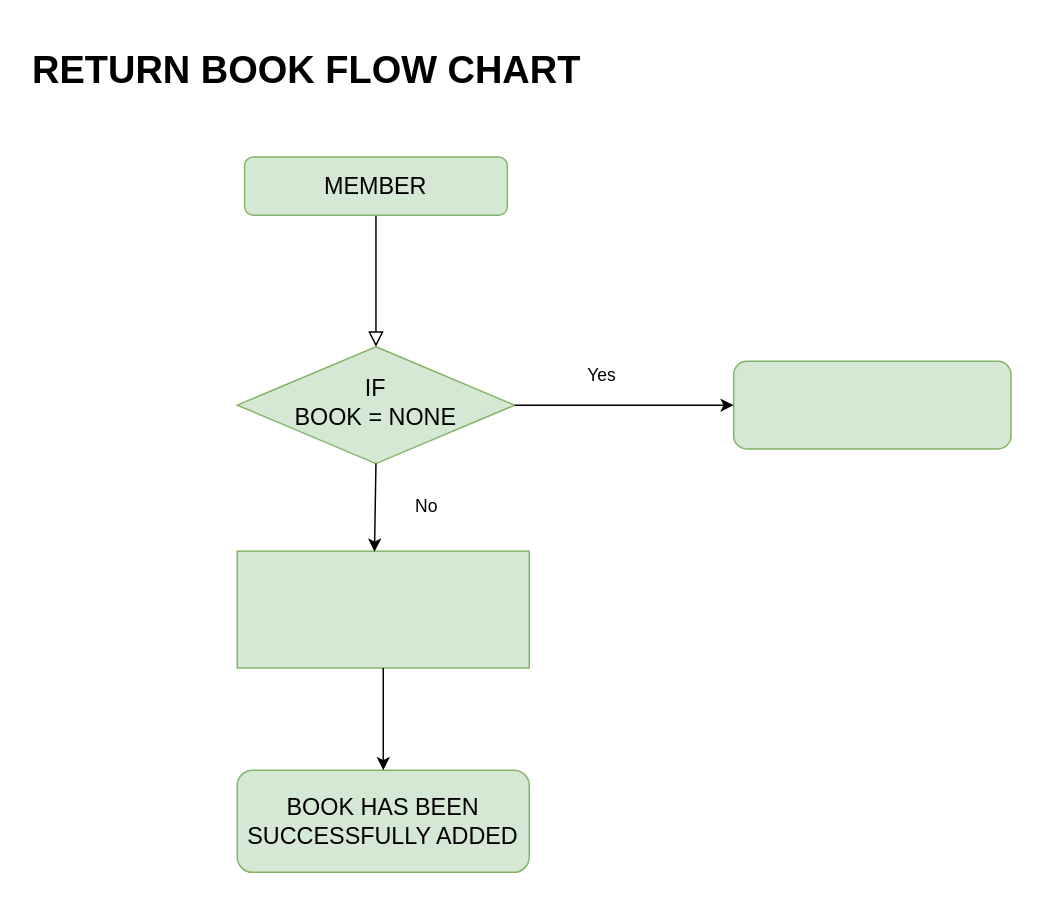
The diagram is 1037 pixels wide and 898 high, and some of its shapes have lost their labels. Each missing label, with the box of its shape:
ADD BOOK BACK TO THE INVENTORY: (236, 550, 529, 668)
BOOK IS DIFFERENT: (732, 360, 1011, 449)
